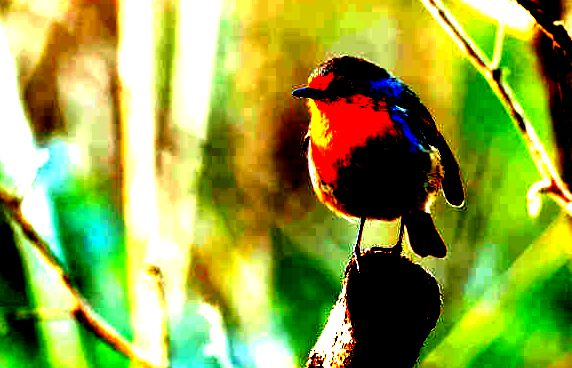Bird: (286, 51, 467, 275)
